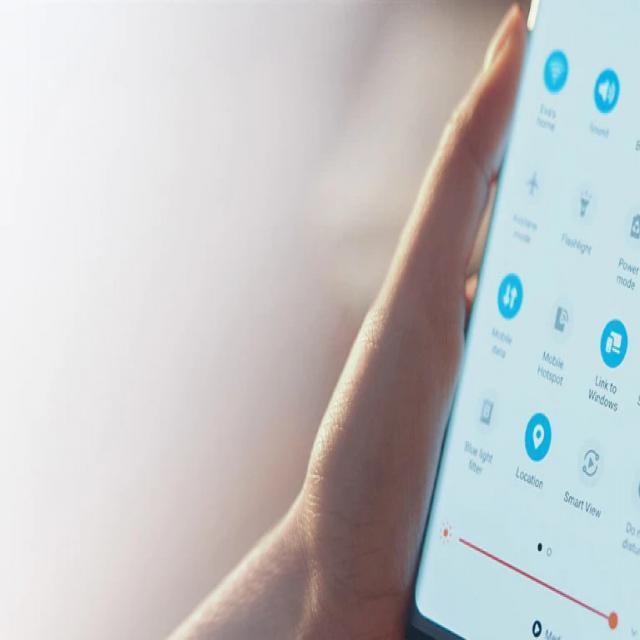Phone: (397, 9, 640, 640)
